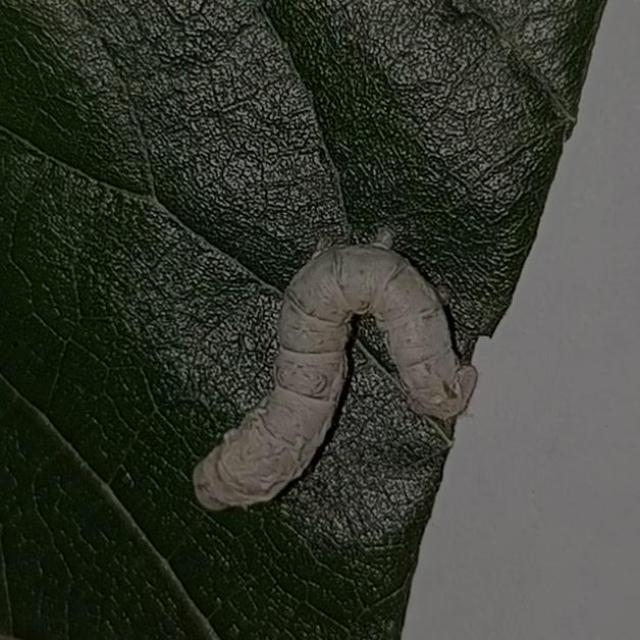Healthy: (158, 207, 516, 547)
